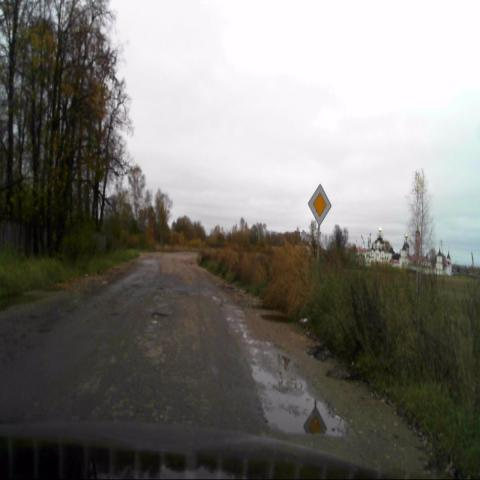2_1: (307, 183, 332, 227)
